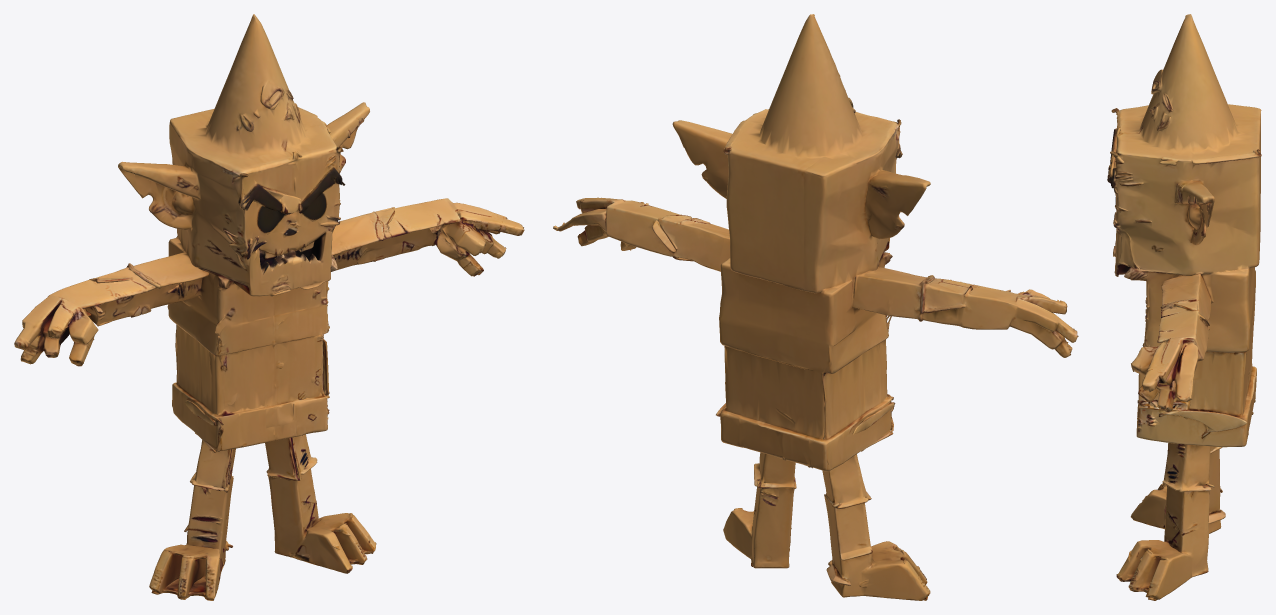
Rendered from cardboard_goblin.glb.
3 renders of one model, left to right at view 1: azimuth 30°, elevation 25°; view 2: azimuth 150°, elevation 25°; view 3: azimuth 270°, elevation 25°, orthographic. The views are drawn at different scales.
Visible parts, largest first — view 1: tripo_node_aa44462c-d6a9-4821-a362-2c34db800e58; view 2: tripo_node_aa44462c-d6a9-4821-a362-2c34db800e58; view 3: tripo_node_aa44462c-d6a9-4821-a362-2c34db800e58.
Part boxes in pixels (left/top/right/bottom): tripo_node_aa44462c-d6a9-4821-a362-2c34db800e58: left=14, top=14, right=524, bottom=600; tripo_node_aa44462c-d6a9-4821-a362-2c34db800e58: left=553, top=14, right=1078, bottom=600; tripo_node_aa44462c-d6a9-4821-a362-2c34db800e58: left=1107, top=14, right=1261, bottom=600.
Size of the model in its own units: 0.9343 by 0.9786 by 0.2536.
1 material, 1 textured.
